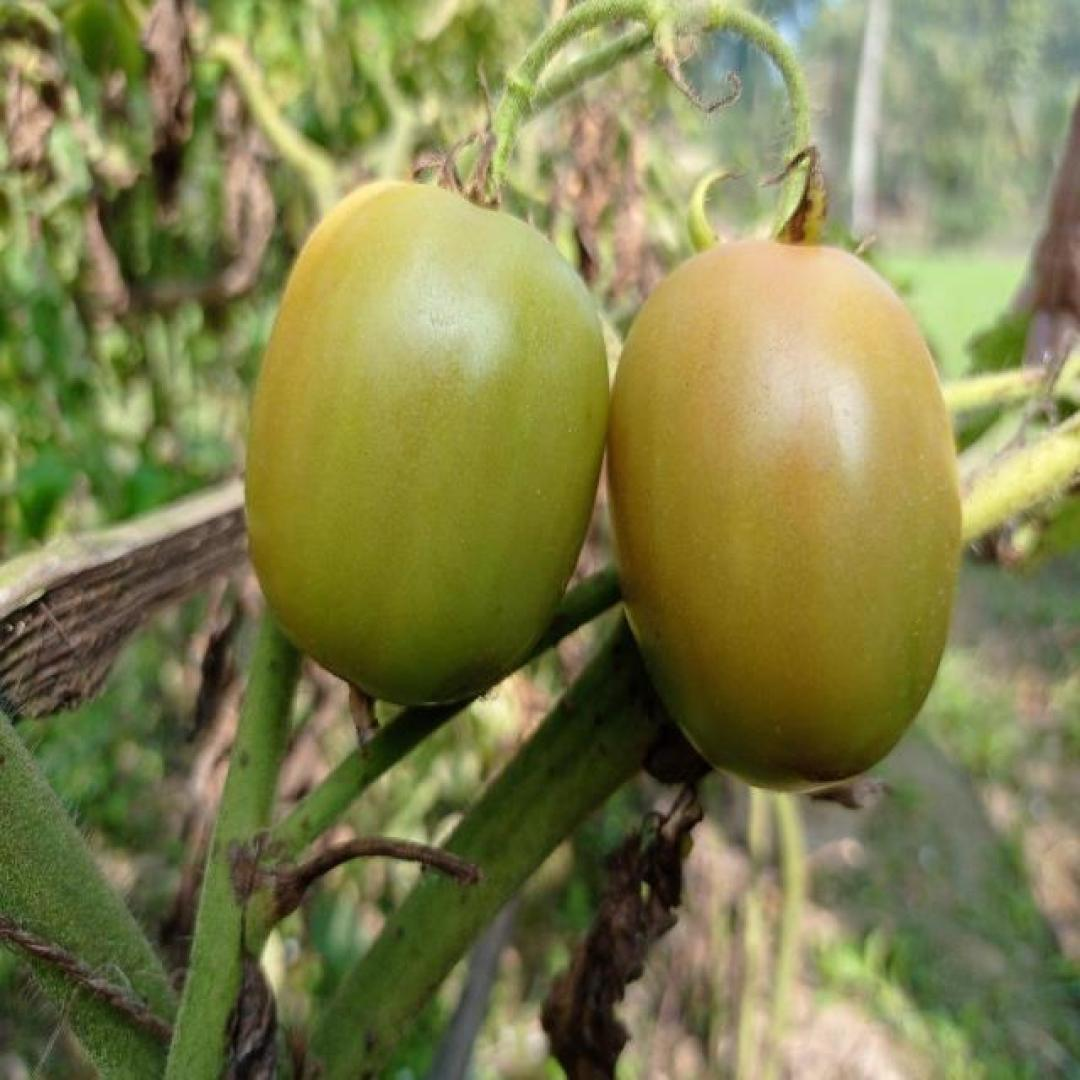setengah_matang: (600, 231, 964, 797), (240, 177, 610, 712)
